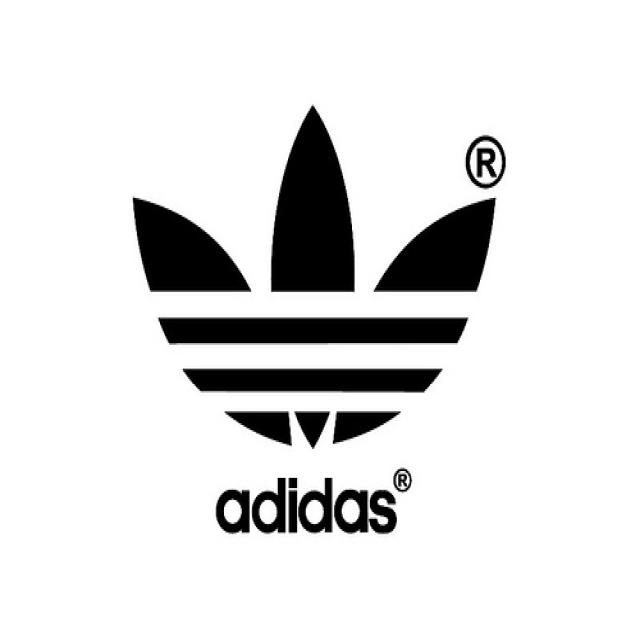adidas: (119, 90, 514, 552)
